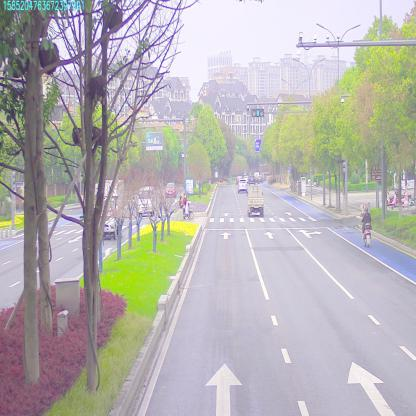traffic-light: (252, 110, 262, 118)
